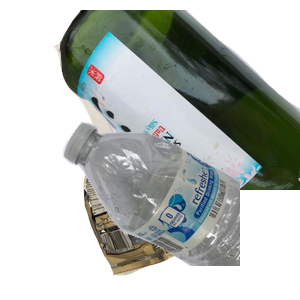glass: (60, 10, 300, 190)
paper: (51, 13, 230, 186)
plastic: (60, 120, 300, 300)
trash: (81, 137, 280, 300)
